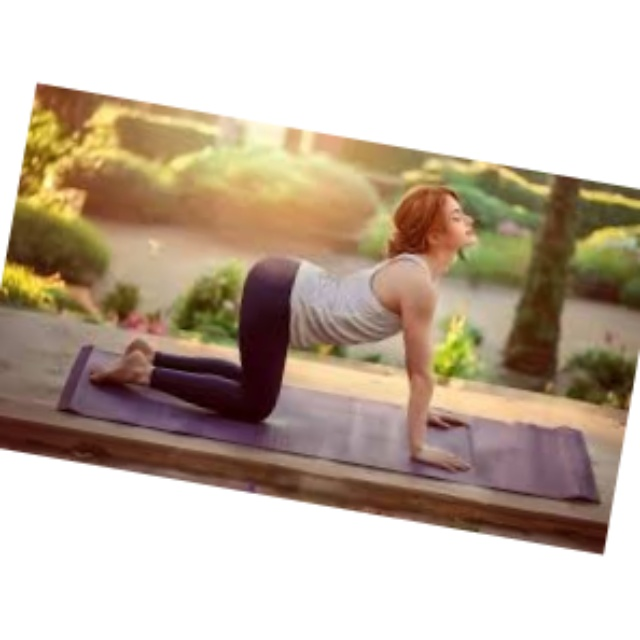Cow_Pose: (86, 185, 475, 480)
